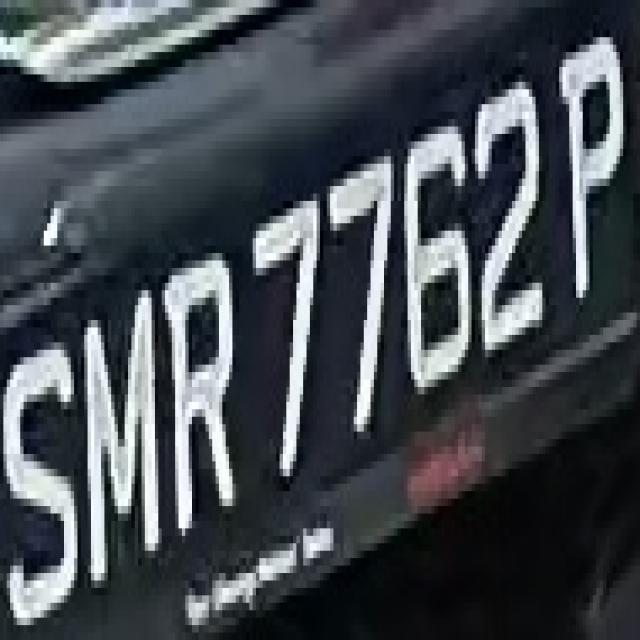2: (458, 89, 553, 372)
6: (404, 104, 478, 417)
7: (317, 156, 404, 439), (253, 194, 330, 491)
M: (81, 298, 162, 610)
P: (556, 22, 630, 305)
R: (165, 238, 243, 551)
S: (7, 342, 77, 618)
